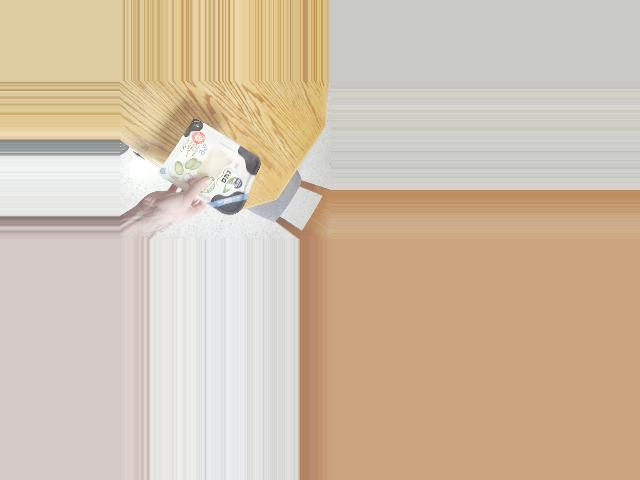cheese: (172, 127, 267, 215)
